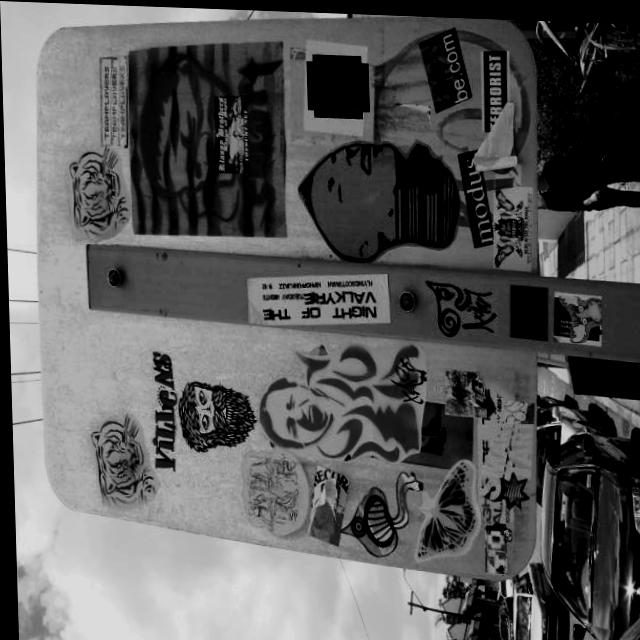qr_code: (309, 54, 365, 112)
